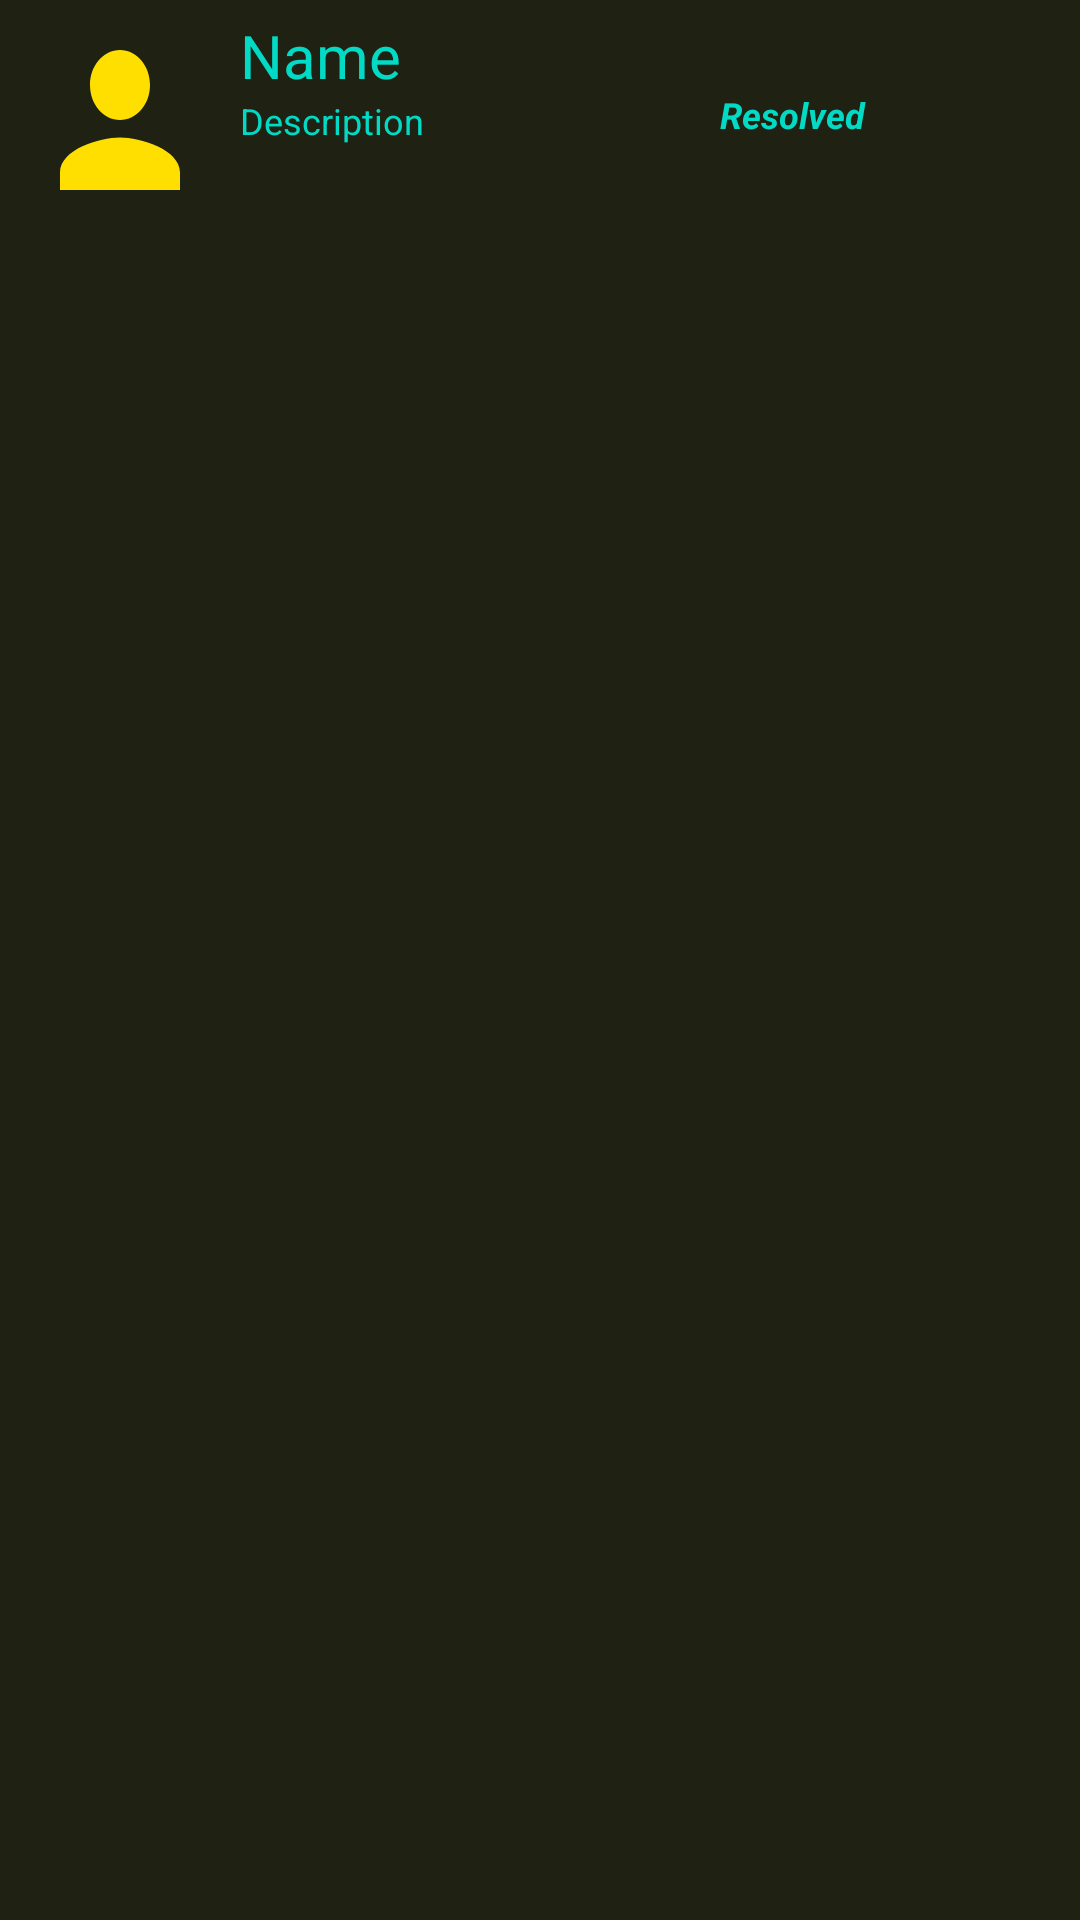

Named icons in this screenshot (1080w x 1920h) and their centers, point (x, y):
person: point (120, 120)
